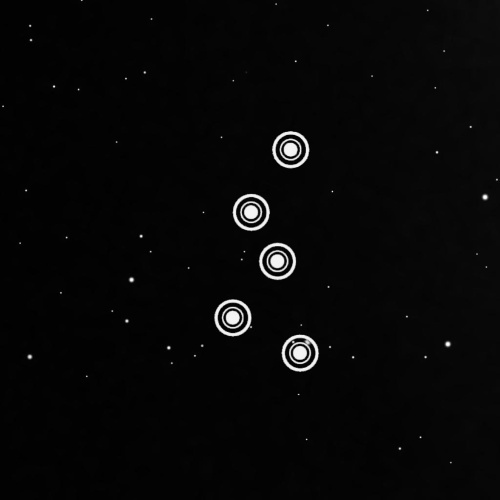cassiopeia: (200, 115, 350, 397)
